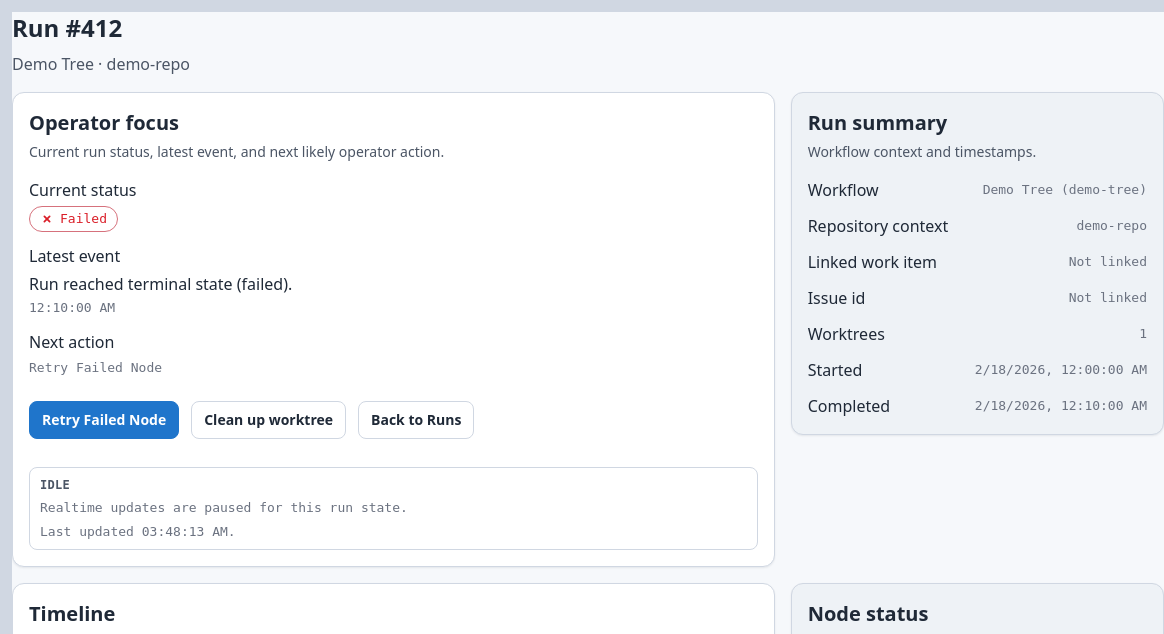
Scenario: RunDetailContent realtime updates › restarts realtime polling when retry succeeds but immediate refresh fails
This screenshot has width=1164, height=634.
Click the button "Retry Failed Node": (104, 420) [29,401,179,439]
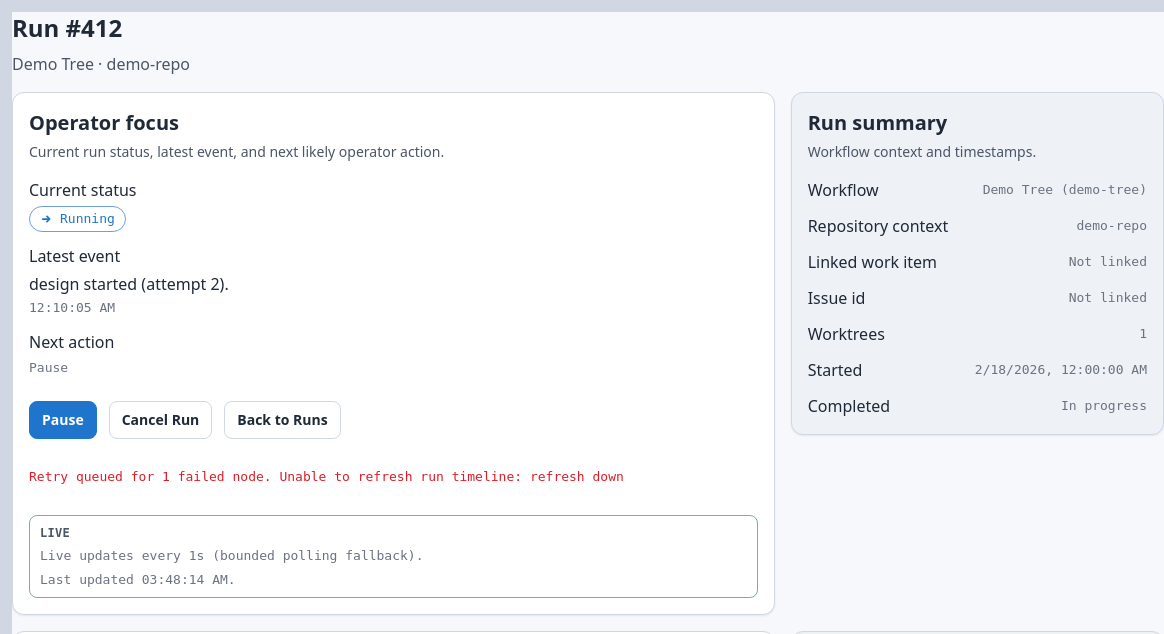
Expected: the button "Pause" is enabled, [29,401,97,439]
Now the text "Unable to refresh run timeline: refresh down" is shown, box [29,469,624,484]
